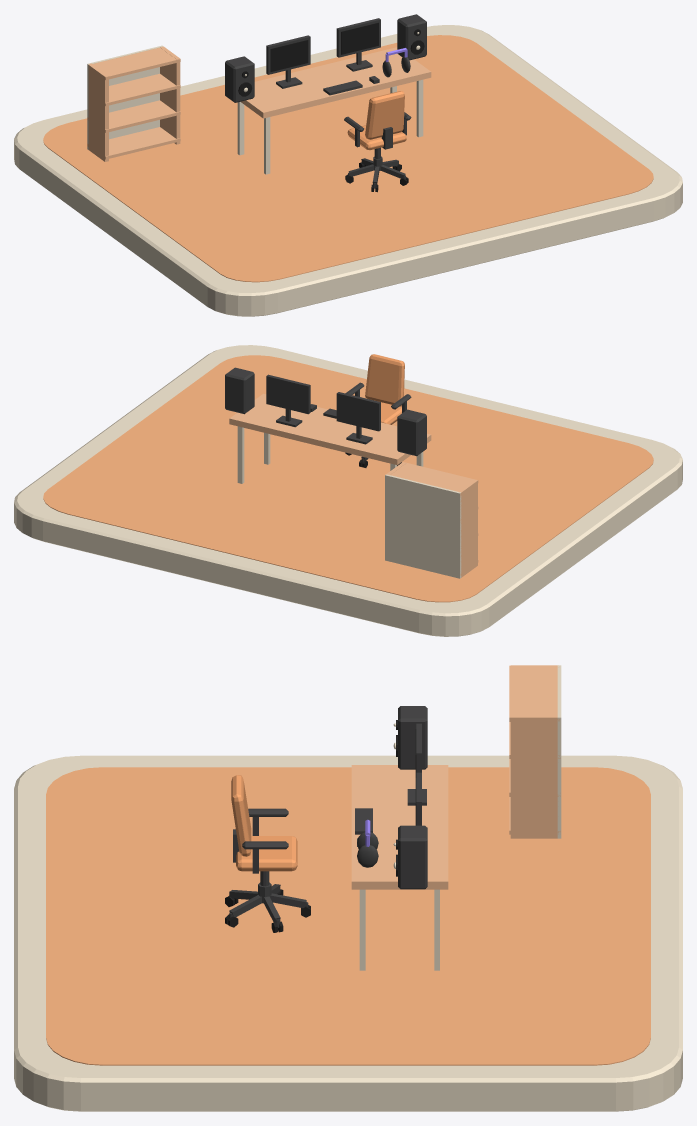
The model's file is room.fbx.
3 views of the same model, one above another, from view 1: azimuth 30°, elevation 25°; view 2: azimuth 150°, elevation 25°; view 3: azimuth 270°, elevation 25° (orthographic). The views are drawn at different scales.
Parts seen in each view (by area): view 1: COM-02 Floor Surface, COM-01 Rounded Base Direct, Top, COM-04_Chair_blender_direct, Side, Frame.001, Frame, Back, Shelf.003, Shelf, Shelf.001, Shelf.002 (+3 smaller); view 2: COM-02 Floor Surface, COM-01 Rounded Base Direct, Back, Top, COM-04_Chair_blender_direct, Frame, Frame.001, Side, Enclosure, Enclosure.001, Shelf.003; view 3: COM-02 Floor Surface, COM-01 Rounded Base Direct, Top, COM-04_Chair_blender_direct, Side.001, Shelf.003, Enclosure.001, Enclosure, Back.
Part boxes in pixels (x1,y1,x2,y2): COM-02 Floor Surface: [43, 35, 653, 282]; COM-01 Rounded Base Direct: [14, 25, 682, 316]; Top: [237, 47, 431, 174]; COM-04_Chair_blender_direct: [344, 91, 411, 192]; Side: [88, 63, 108, 161]; Frame.001: [336, 18, 380, 71]; Frame: [266, 35, 310, 88]; Back: [87, 45, 163, 149]; Shelf.003: [88, 47, 180, 80]; Shelf: [87, 127, 180, 159]; Shelf.001: [87, 100, 180, 132]; Shelf.002: [88, 73, 180, 106]; COM-02 Floor Surface: [43, 355, 653, 602]; COM-01 Rounded Base Direct: [14, 345, 682, 636]; Back: [385, 474, 461, 578]; Top: [229, 393, 431, 483]; COM-04_Chair_blender_direct: [345, 354, 411, 467]; Frame: [336, 392, 380, 444]; Frame.001: [266, 374, 310, 427]; Side: [458, 479, 477, 577]; Enclosure: [397, 409, 426, 456]; Enclosure.001: [225, 367, 254, 414]; Shelf.003: [390, 462, 478, 495]; COM-02 Floor Surface: [46, 767, 650, 1065]; COM-01 Rounded Base Direct: [14, 755, 682, 1111]; Top: [351, 765, 448, 970]; COM-04_Chair_blender_direct: [225, 775, 310, 932]; Side.001: [510, 715, 557, 838]; Shelf.003: [509, 665, 559, 721]; Enclosure.001: [398, 825, 427, 889]; Enclosure: [398, 706, 427, 769]; Back: [557, 665, 561, 838].
Size of the model in its own units: 600 by 161 by 520.
